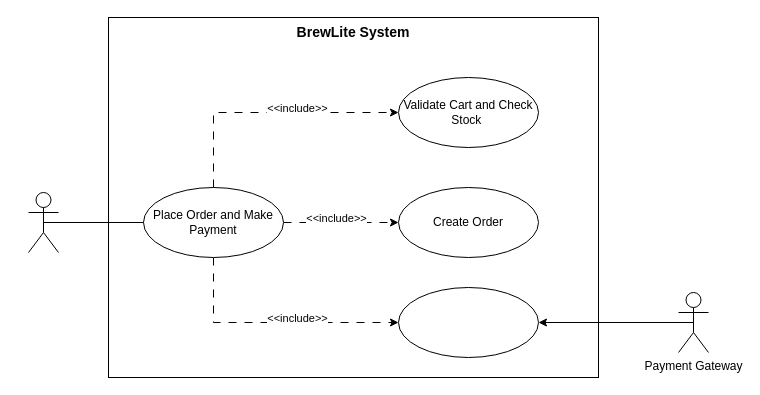
Some shapes in this 760 by 395 pixel diagram are drawn without their labels. Here are the shapes that lost their labels. From the top down, the centre of each, then its label:
(43,222): Customer
(468,322): Process Payment
